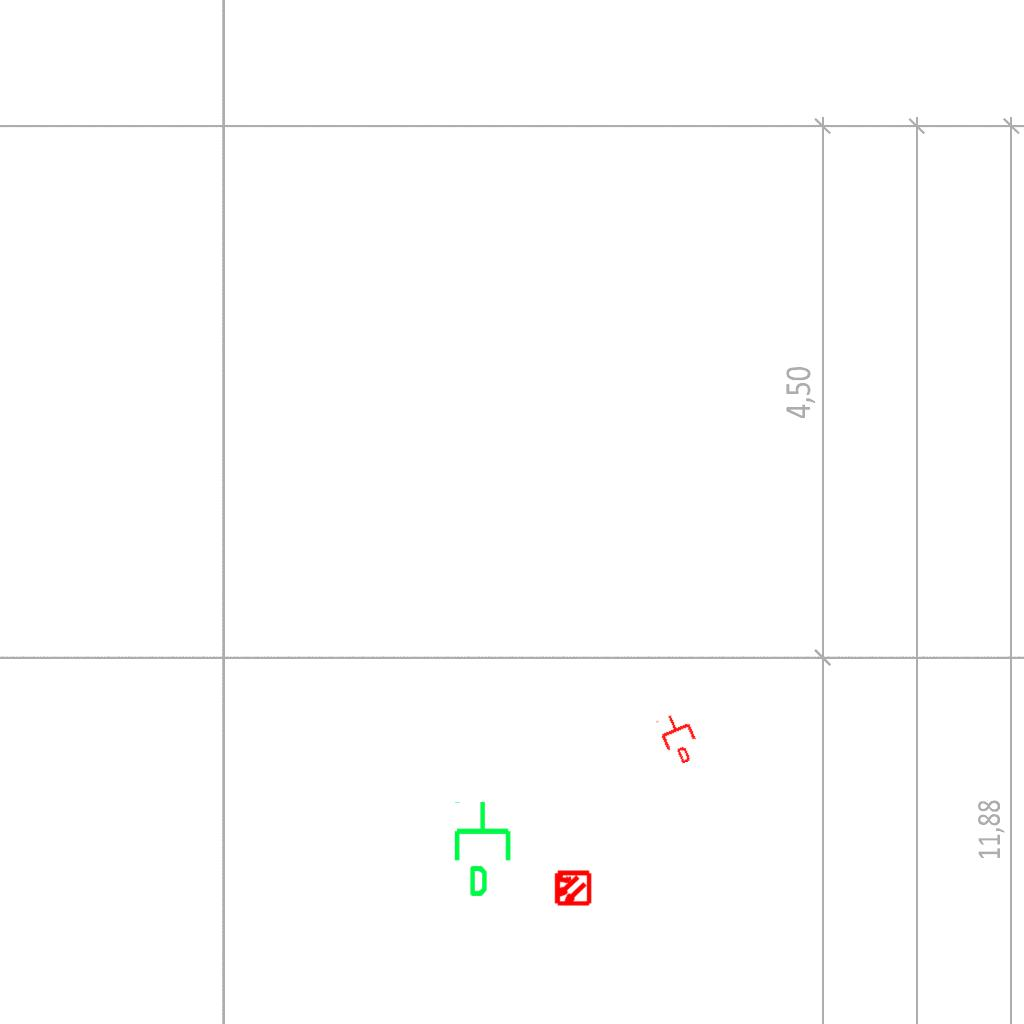Datenanschluss_einfach: (450, 799, 519, 899), (653, 708, 705, 768)
OT_Multisensormelder_(Kombination_RMO_WMD): (544, 860, 600, 916)
